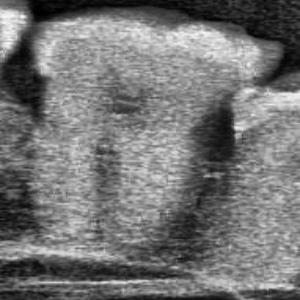tooth: (26, 10, 283, 250)
